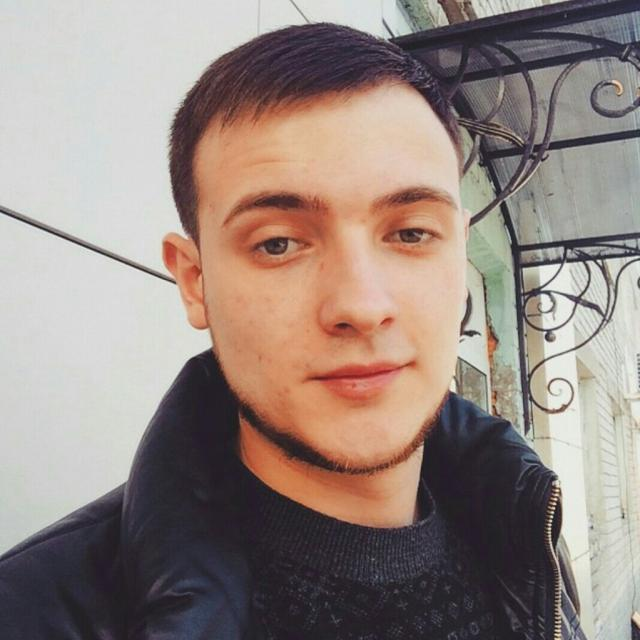earlobe: (160, 233, 209, 332)
